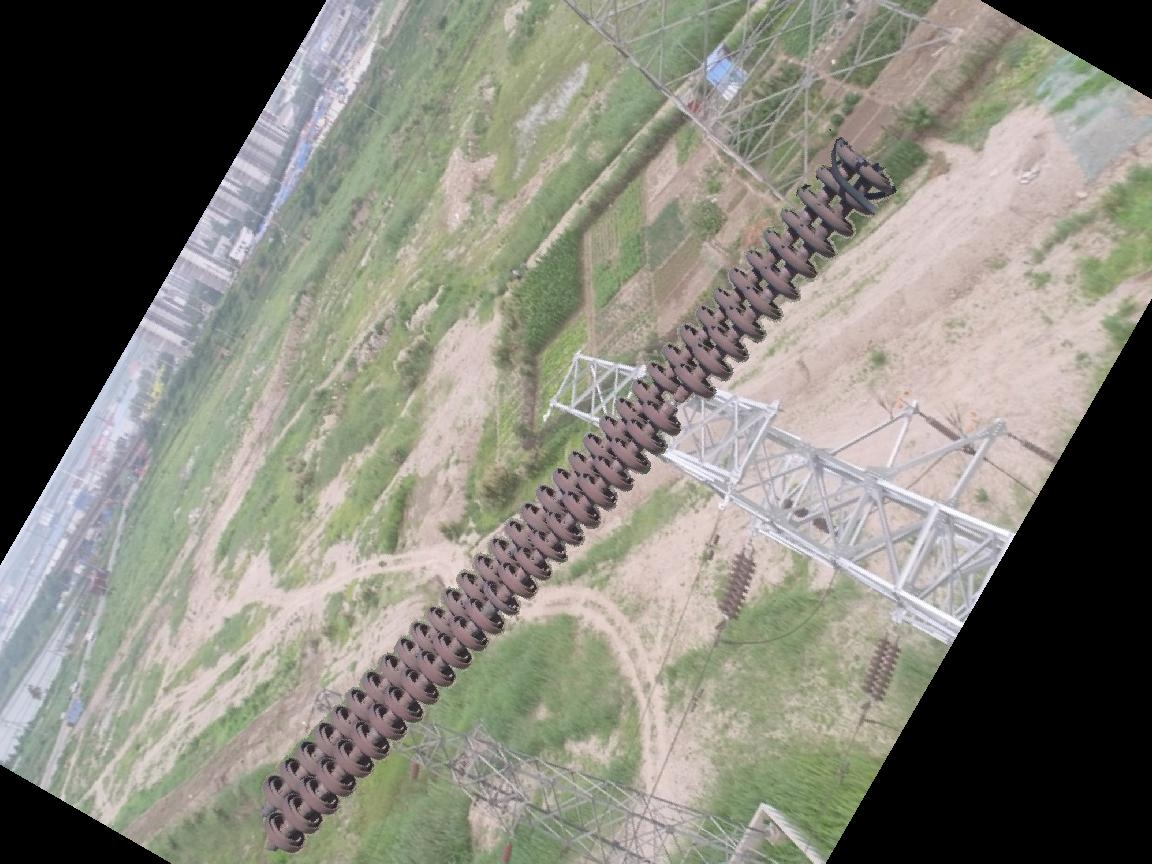insulator: (249, 133, 901, 855), (860, 630, 906, 704), (715, 548, 761, 621)
insulator_stringdrop: (637, 363, 718, 439)
